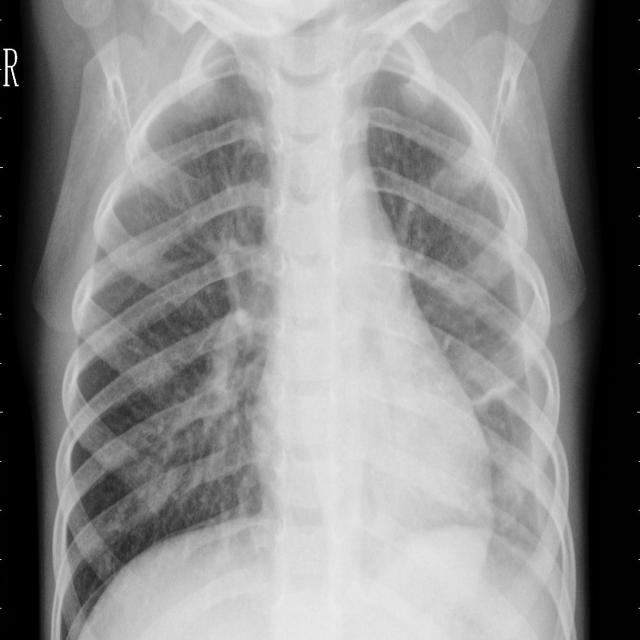low-pneumonia: (179, 211, 268, 479), (486, 394, 553, 571)
